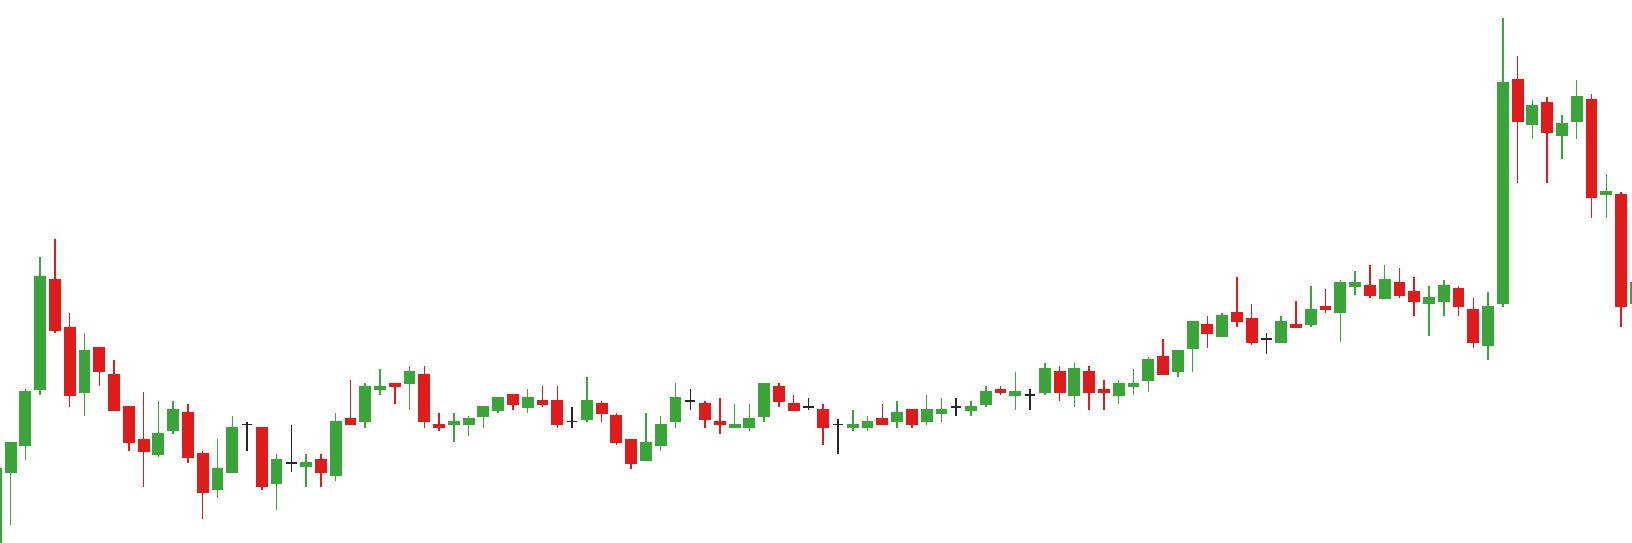buy: (1334, 280, 1496, 361), (137, 422, 226, 520)
